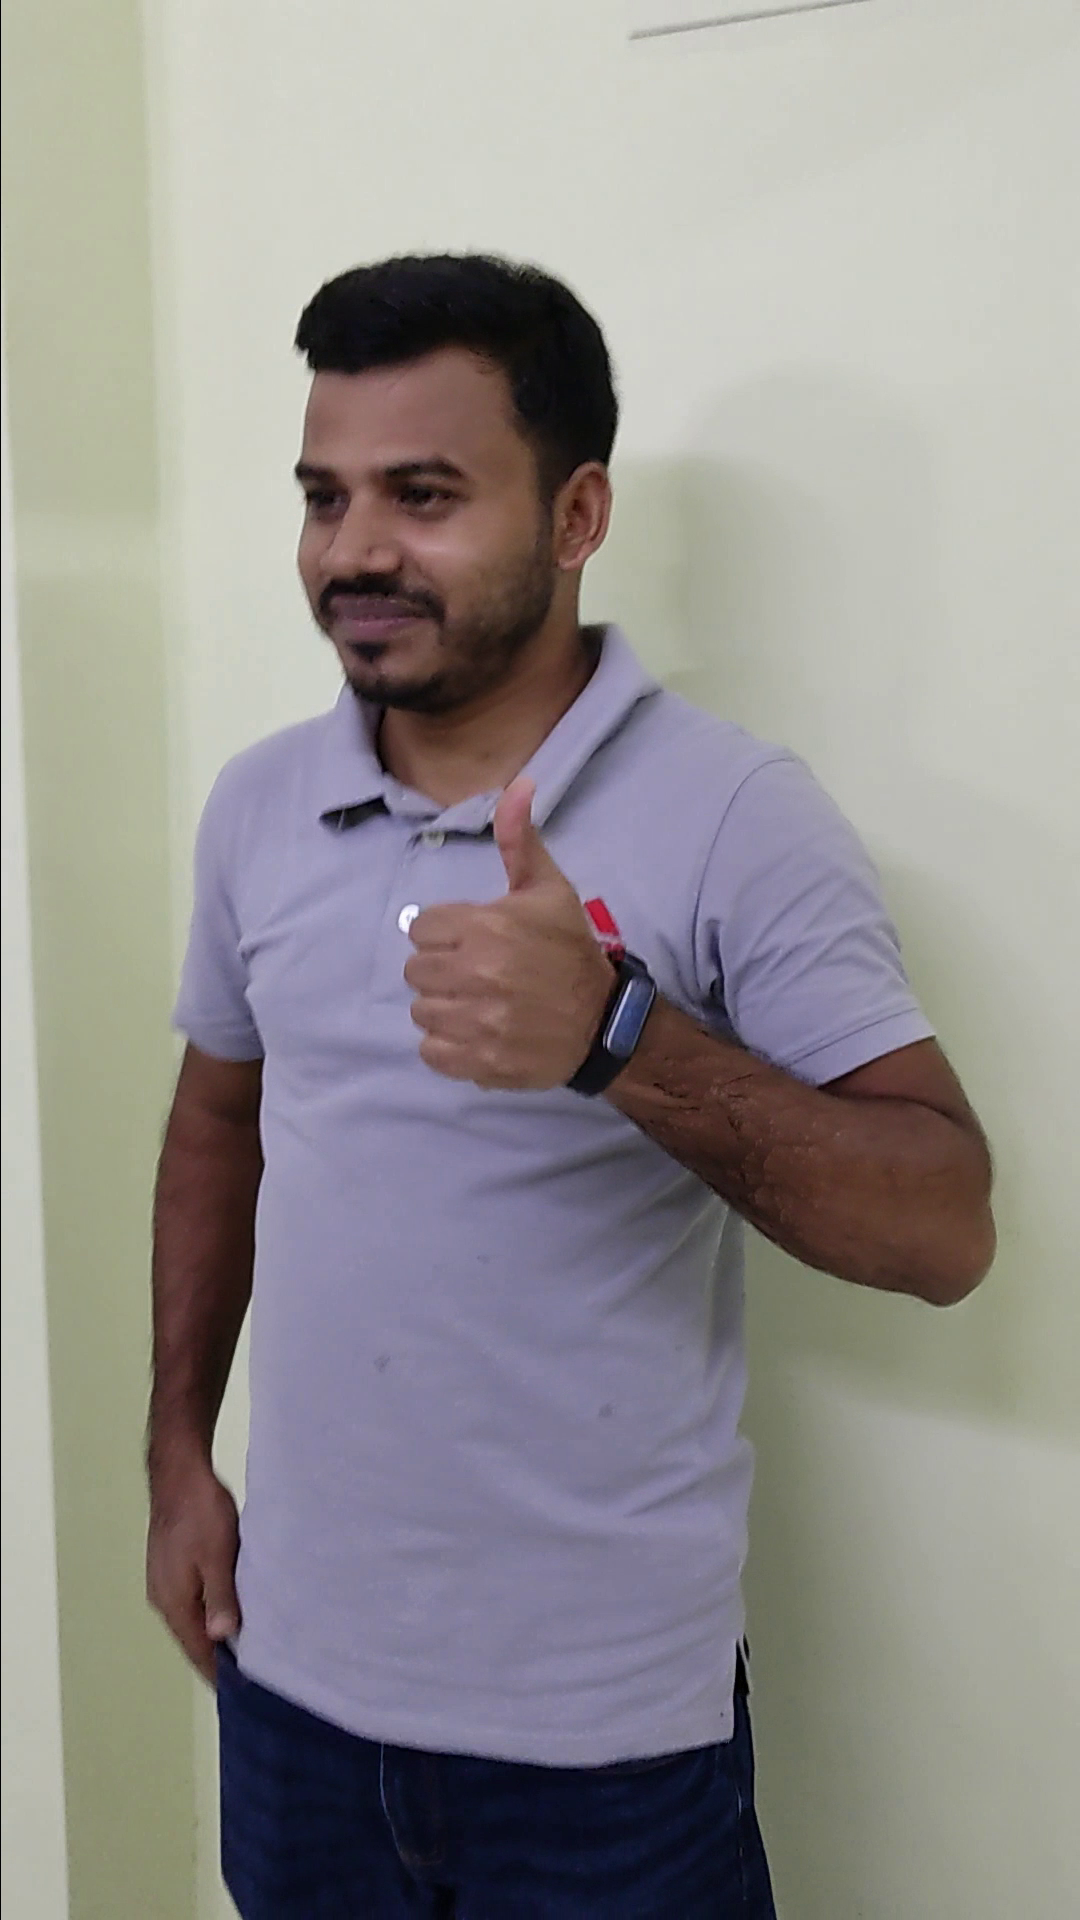Like: (394, 767, 633, 1106)
None: (109, 1420, 256, 1713)
